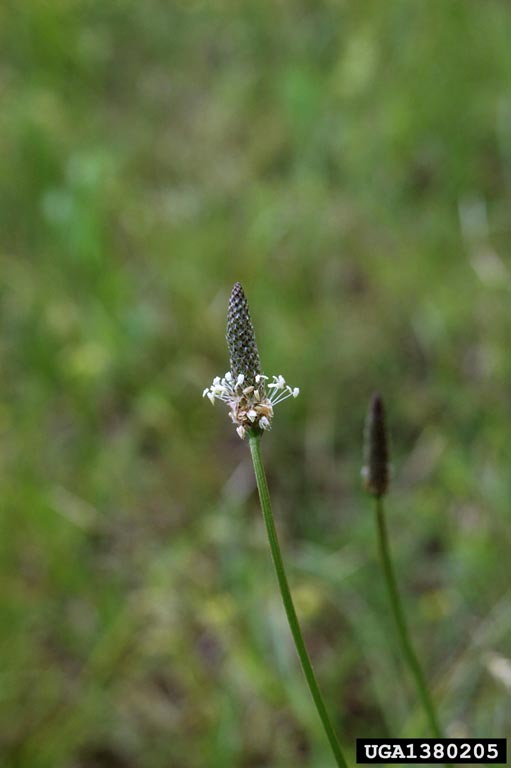buckhorn plantain: (178, 263, 355, 702), (350, 360, 452, 690)
